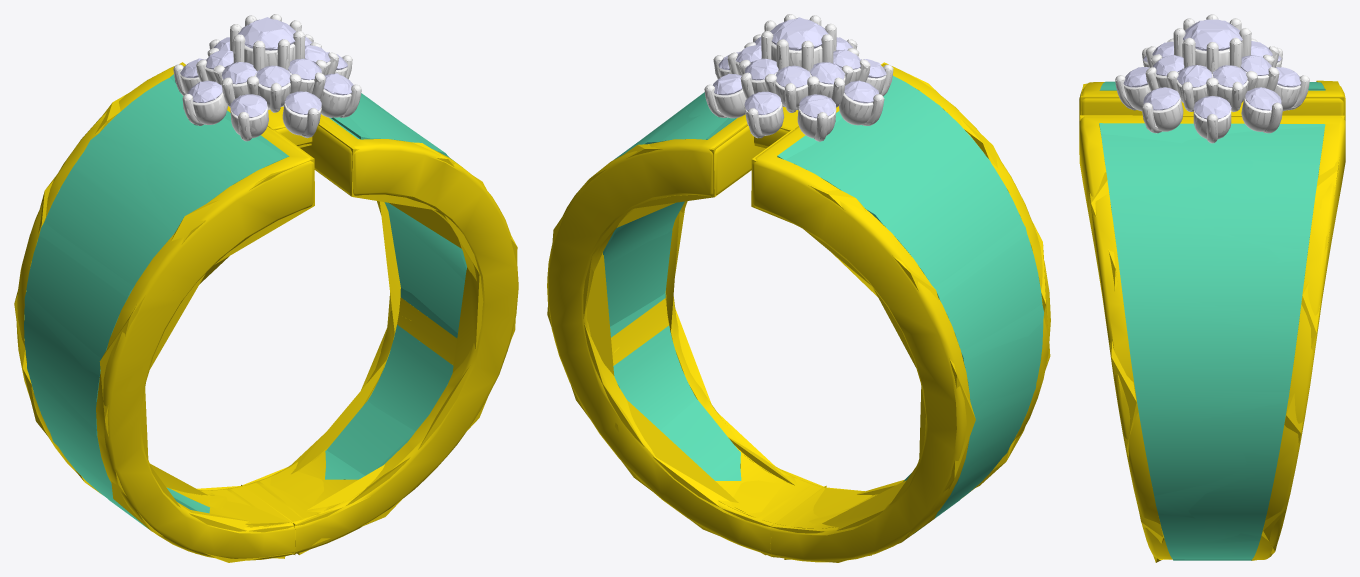
The model's file is DLR-D000677795.glb.
3 views of the same model, side by side, from view 1: azimuth 30°, elevation 25°; view 2: azimuth 150°, elevation 25°; view 3: azimuth 270°, elevation 25° (orthographic).
Visible parts, largest first — view 1: highPolyMesh, lowPolyMesh; view 2: highPolyMesh, lowPolyMesh; view 3: highPolyMesh, lowPolyMesh.
Boxes of the visible parts, box(x1,y1,x2,y2) form: highPolyMesh: box(16, 14, 518, 560); lowPolyMesh: box(14, 14, 517, 562); highPolyMesh: box(547, 14, 1050, 562); lowPolyMesh: box(547, 14, 1050, 562); highPolyMesh: box(1079, 14, 1345, 559); lowPolyMesh: box(1080, 14, 1344, 562).
Size of the model in its own units: 0.022 by 0.0258 by 0.0121.
